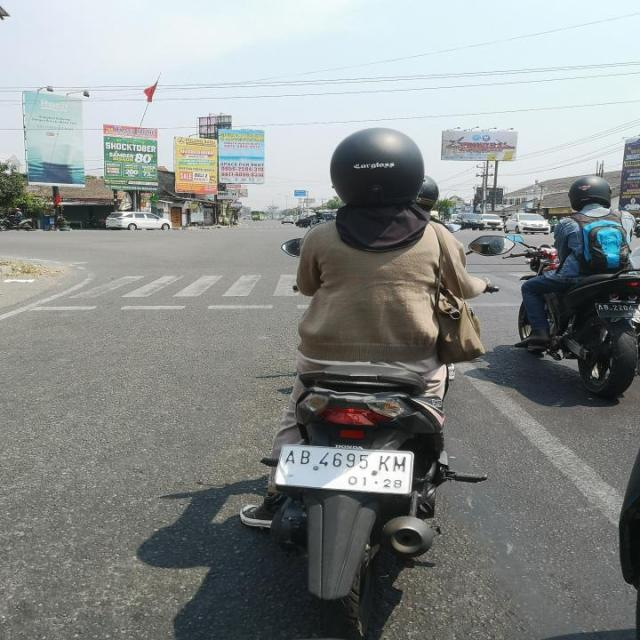License Plate: (274, 440, 418, 498), (593, 301, 640, 319)
